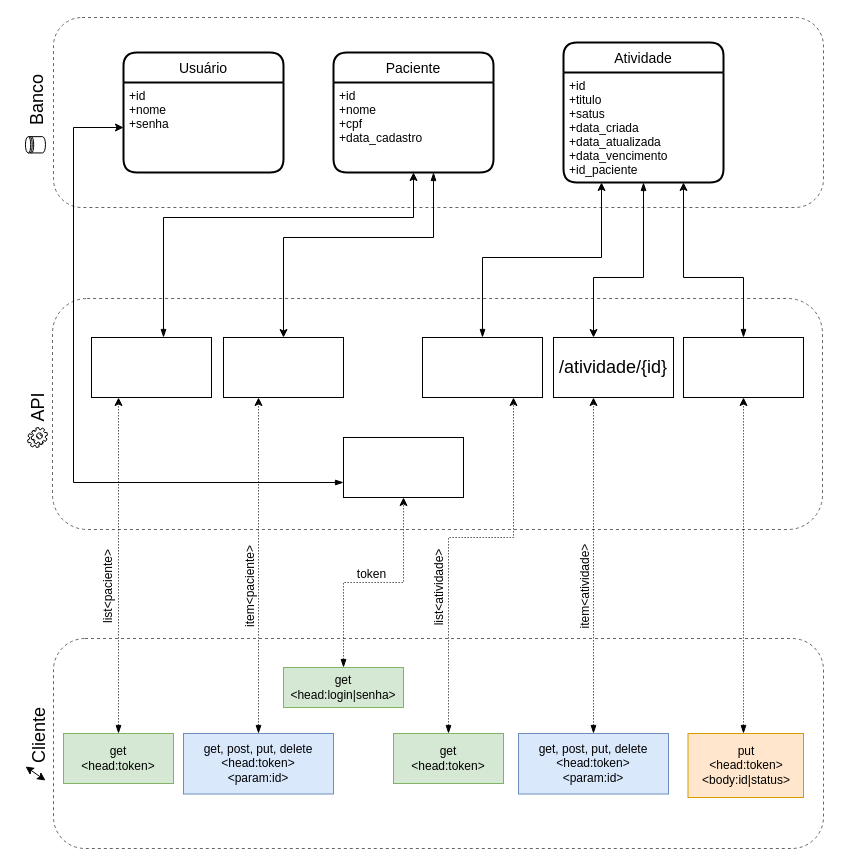
Some shapes in this 841 by 866 pixel diagram are drawn without their labels. The centre of each missing label's shape, as x and y in pixels:
"/atividades" goes at [482,367].
"/autenticacao" goes at [403,467].
"/paciente/{id}" goes at [283,367].
"/pacientes" goes at [151,367].
"/status" goes at [743,367].
